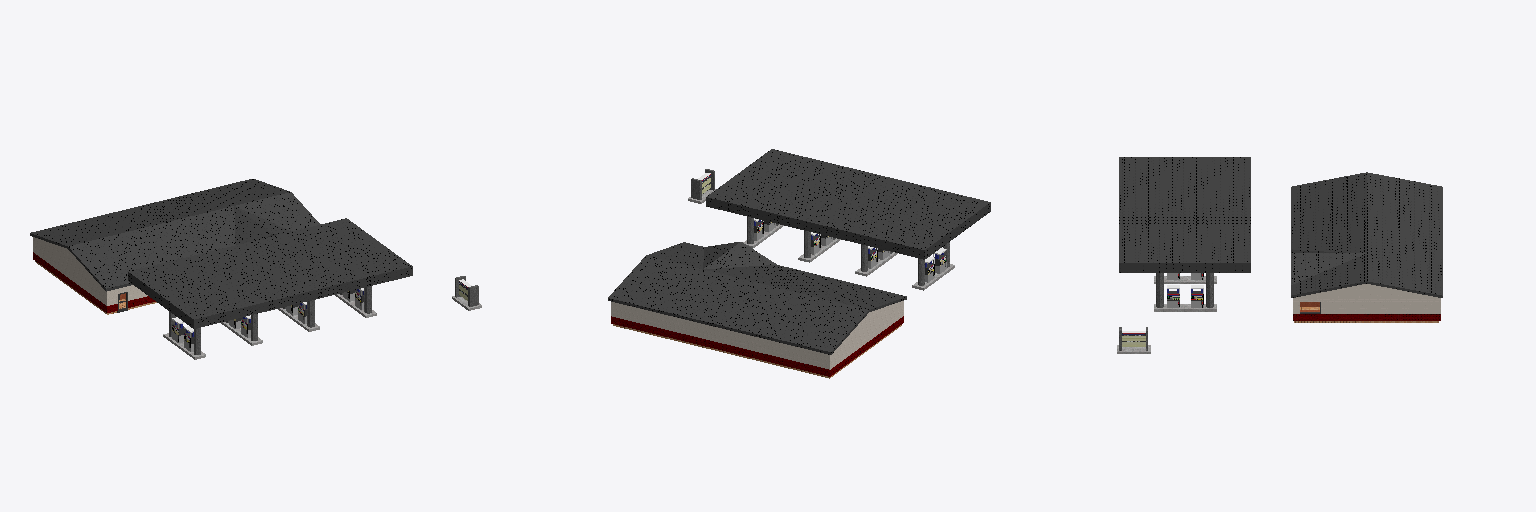
The picture shows the model from 3 angles: view 1: azimuth 30°, elevation 25°; view 2: azimuth 150°, elevation 25°; view 3: azimuth 270°, elevation 25°; orthographic projection.
Parts seen in each view (by area): view 1: object235, object52, object53, object11, object2, object12; view 2: object235, object53, object52, object9, object4, object2, object12, object11; view 3: object235, object53, object52, object10, object1, object21, object23.
Boxes of the visible parts, <box> form: object235: <box>128,218,412,328</box>; object52: <box>68,192,320,291</box>; object53: <box>30,179,289,248</box>; object11: <box>34,237,69,278</box>; object2: <box>234,206,271,244</box>; object12: <box>70,252,105,304</box>; object235: <box>706,149,990,259</box>; object53: <box>608,256,868,354</box>; object52: <box>646,242,906,311</box>; object9: <box>611,302,830,369</box>; object4: <box>611,316,830,376</box>; object2: <box>704,242,776,268</box>; object12: <box>867,301,902,341</box>; object11: <box>831,316,866,368</box>; object235: <box>1119,157,1250,272</box>; object53: <box>1367,172,1442,297</box>; object52: <box>1291,172,1366,297</box>; object10: <box>1367,284,1438,313</box>; object1: <box>1291,253,1366,284</box>; object21: <box>1294,284,1366,301</box>; object23: <box>1321,302,1366,313</box>.
Size of the model in its own units: 4064 by 800 by 3968.
Materials: 59 (55 with a texture image).